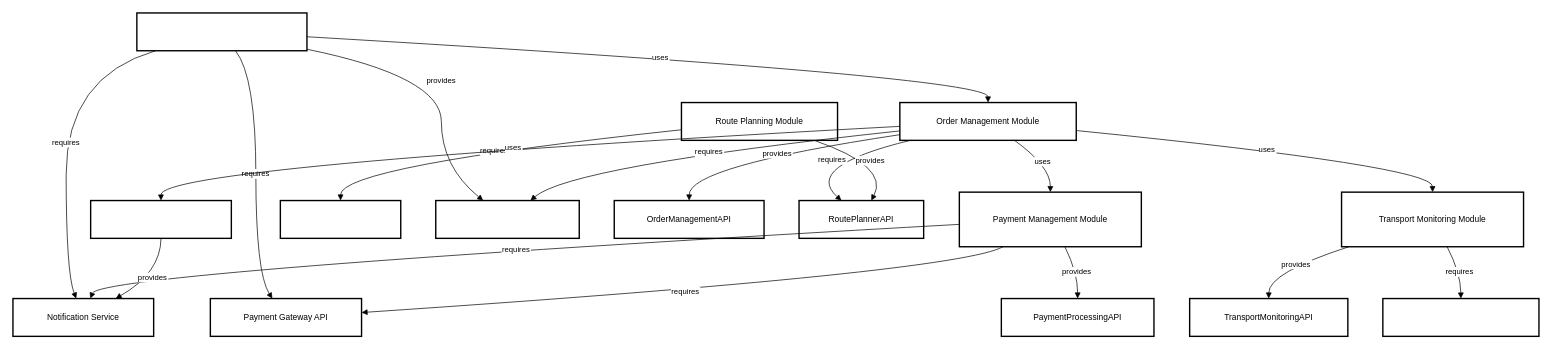
The diagram is 1551 pixels wide and 349 high, and some of its shapes have lost their labels. Each missing label, with the box of its shape:
GPS Monitoring System: (1382, 298, 1539, 337)
Map Service API: (279, 200, 401, 239)
Notification Module: (90, 200, 232, 239)
User Management Module: (136, 12, 307, 51)
UserManagementAPI: (435, 200, 580, 239)
